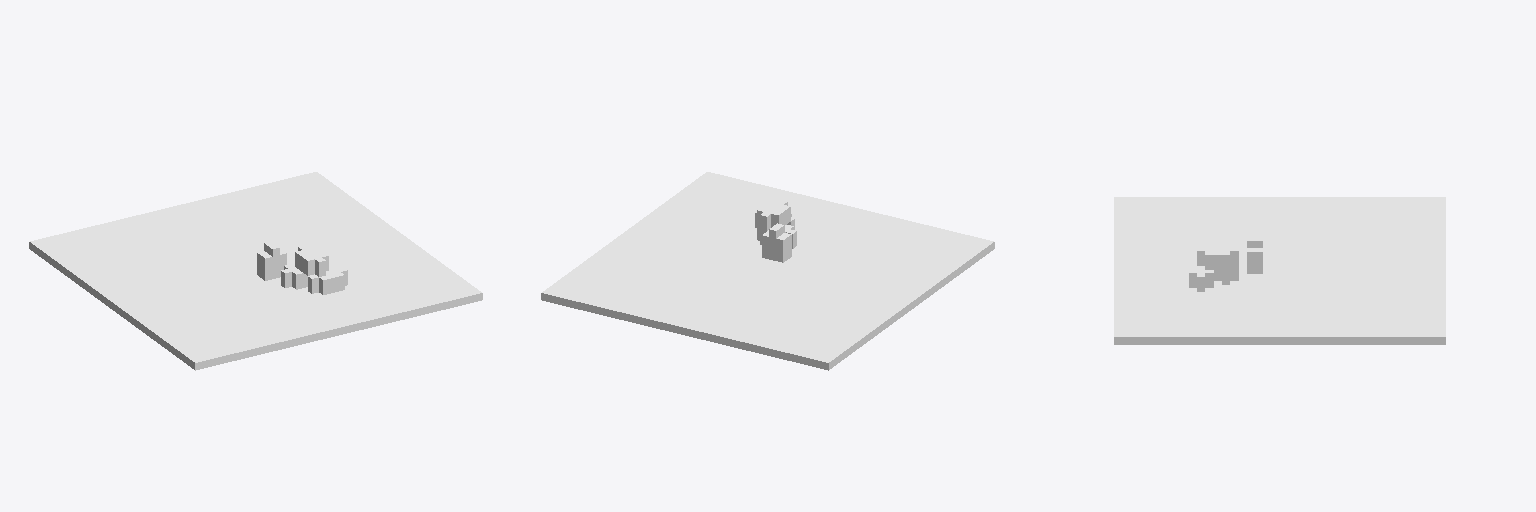
The model's file is batata.obj.
3 renders of one model, left to right at view 1: azimuth 30°, elevation 25°; view 2: azimuth 150°, elevation 25°; view 3: azimuth 270°, elevation 25°, orthographic.
Visible parts, largest first — view 1: object 1; view 2: object 1; view 3: object 1.
Part boxes in pixels (x1,y1,x2,y2): object 1: (29,172,482,370); object 1: (541,172,994,370); object 1: (1114,197,1445,344).
Bounding box in the file's own units: 4 × 0.5 × 4.